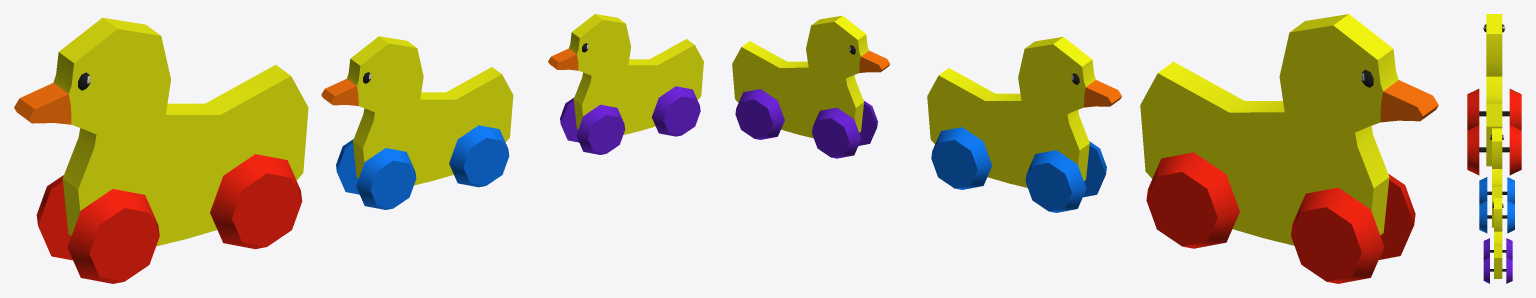
Rendered from Wooden_Duckies.FBX.
3 renders of one model, left to right at view 1: azimuth 30°, elevation 25°; view 2: azimuth 150°, elevation 25°; view 3: azimuth 270°, elevation 25°, orthographic. The views are drawn at different scales.
Parts seen in each view (by area): view 1: Duckys; view 2: Duckys; view 3: Duckys.
Part boxes in pixels (x1=…): Duckys: x1=14, y1=14, x2=703, y2=283; Duckys: x1=732, y1=14, x2=1438, y2=283; Duckys: x1=1467, y1=14, x2=1521, y2=283.
Bounding box in the file's own units: 257 × 89.02 × 34.4.
